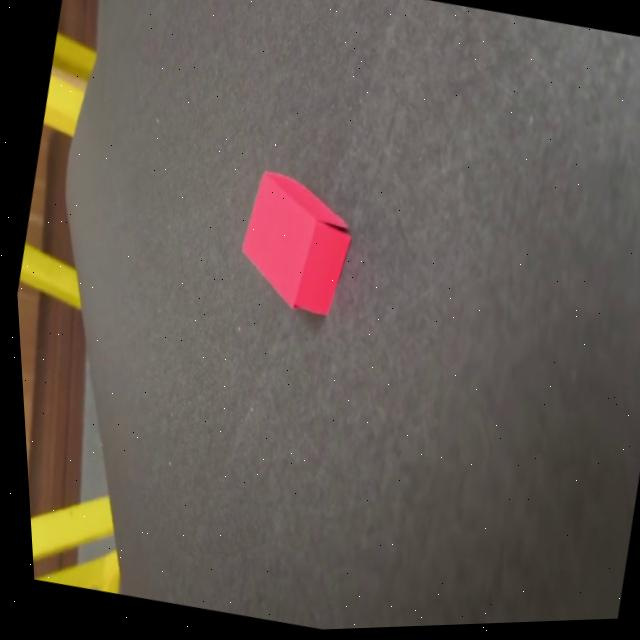red block: (222, 164, 366, 324)
